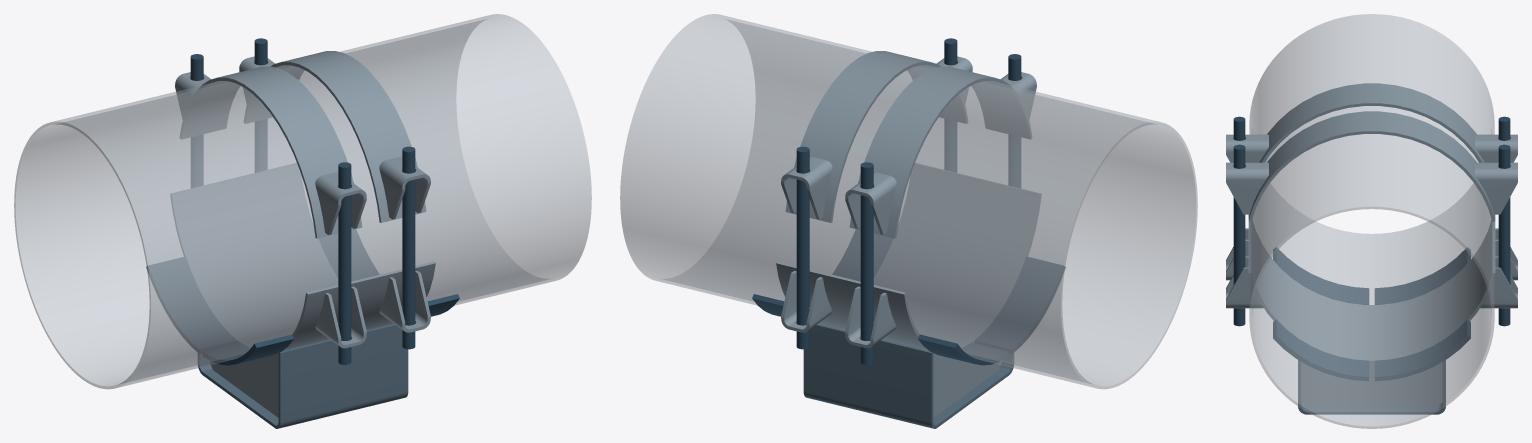
The model's file is TS-671.00.00-10-opora-dn630-H150.glb.
3 views of the same model, side by side, from view 1: azimuth 30°, elevation 25°; view 2: azimuth 150°, elevation 25°; view 3: azimuth 270°, elevation 25° (orthographic). The views are drawn at different scales.
Visible parts, largest first — view 1: truba, podushka_0, skoba_1, bugel_podushka_-1_0, bugel_podushka_1_0, upor_-1_1, shpilka_1_-1, shpilka_-1_-1, rebro_2, bugel_ushko_1_2, bugel_ushko_-1_2, ushko_6 (+6 smaller); view 2: truba, podushka_0, skoba_1, bugel_podushka_-1_0, bugel_podushka_1_0, upor_-1_-1, shpilka_1_1, shpilka_-1_1, rebro_2, bugel_ushko_1_1, bugel_ushko_-1_1, ushko_5 (+6 smaller); view 3: truba, podushka_0, bugel_podushka_1_0, bugel_podushka_-1_0, rebro_4, upor_1_1, upor_1_-1, upor_-1_1, upor_-1_-1, skoba_1, bugel_ushko_1_1, bugel_ushko_1_2 (+10 smaller).
Part boxes in pixels (<box>): truba: <box>14,14,591,389</box>; podushka_0: <box>170,163,435,350</box>; skoba_1: <box>198,324,408,428</box>; bugel_podushka_-1_0: <box>180,66,362,238</box>; bugel_podushka_1_0: <box>244,51,426,222</box>; upor_-1_1: <box>146,257,236,353</box>; shpilka_1_-1: <box>402,146,415,349</box>; shpilka_-1_-1: <box>338,162,351,364</box>; rebro_2: <box>210,353,278,417</box>; bugel_ushko_1_2: <box>379,156,430,219</box>; bugel_ushko_-1_2: <box>315,172,366,234</box>; ushko_6: <box>379,270,430,332</box>; truba: <box>620,14,1197,389</box>; podushka_0: <box>776,163,1041,350</box>; skoba_1: <box>803,324,1013,428</box>; bugel_podushka_-1_0: <box>849,66,1031,238</box>; bugel_podushka_1_0: <box>785,51,967,222</box>; upor_-1_-1: <box>975,257,1065,353</box>; shpilka_1_1: <box>796,146,809,349</box>; shpilka_-1_1: <box>860,162,873,364</box>; rebro_2: <box>933,353,1001,417</box>; bugel_ushko_1_1: <box>781,156,832,219</box>; bugel_ushko_-1_1: <box>845,172,896,234</box>; ushko_5: <box>781,270,832,332</box>; truba: <box>1249,14,1494,428</box>; podushka_0: <box>1248,220,1495,363</box>; bugel_podushka_1_0: <box>1248,111,1495,221</box>; bugel_podushka_-1_0: <box>1259,83,1484,162</box>; rebro_4: <box>1301,362,1442,407</box>; upor_1_1: <box>1374,319,1470,381</box>; upor_1_-1: <box>1273,319,1369,381</box>; upor_-1_1: <box>1374,247,1470,304</box>; upor_-1_-1: <box>1273,247,1369,304</box>; skoba_1: <box>1298,360,1445,414</box>; bugel_ushko_1_1: <box>1475,162,1517,214</box>; bugel_ushko_1_2: <box>1226,162,1268,214</box>.
Bounding box in the file's own units: 1170 × 791 × 750.
